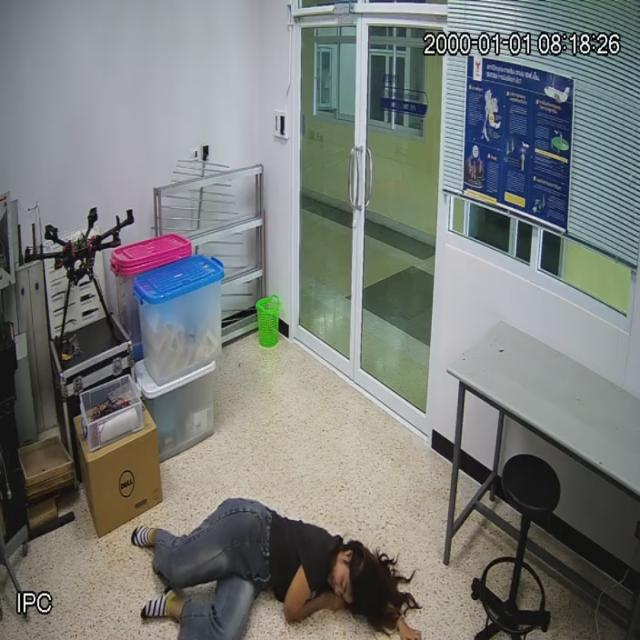fall: (148, 490, 420, 640)
